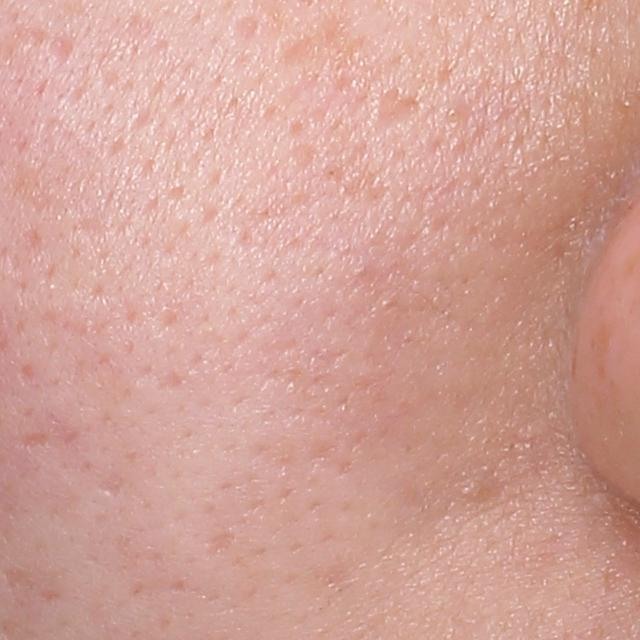atrophic_scar: (378, 88, 418, 132), (97, 472, 122, 499), (209, 532, 235, 556)
